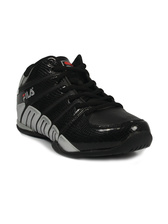shoes: (10, 54, 156, 157)
